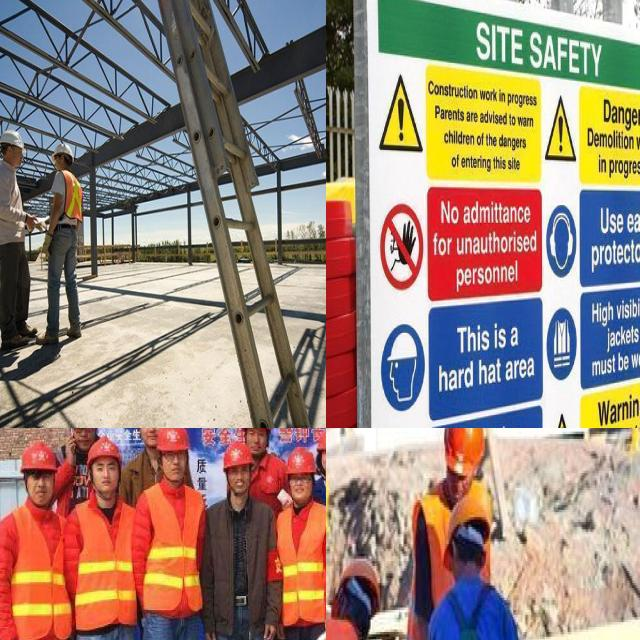face_nomask: (91, 456, 120, 496), (25, 469, 57, 502), (162, 448, 188, 485), (227, 465, 250, 500), (245, 428, 270, 458), (68, 428, 97, 453), (289, 472, 313, 500), (139, 428, 165, 451), (6, 149, 26, 172)
hand_glove: (40, 231, 53, 259)
hand_noglove: (257, 621, 278, 640), (27, 212, 38, 238), (320, 613, 326, 640)
head_helmet: (443, 495, 491, 547), (332, 559, 382, 605), (443, 428, 487, 475), (20, 438, 57, 471), (84, 434, 122, 462), (222, 438, 255, 466), (286, 446, 316, 474), (155, 428, 188, 449), (0, 128, 24, 148), (50, 142, 76, 159), (315, 428, 326, 451)
person: (408, 428, 495, 640), (140, 428, 213, 640), (69, 441, 143, 640), (204, 434, 272, 640), (0, 444, 67, 640), (432, 495, 520, 640), (277, 449, 326, 640), (44, 140, 84, 350), (0, 129, 35, 345), (244, 428, 285, 513), (55, 428, 98, 493), (125, 428, 167, 487), (311, 428, 326, 527)
shoes: (0, 327, 30, 352), (64, 312, 85, 342), (42, 322, 62, 346)
vest: (3, 505, 72, 640), (71, 501, 140, 623), (140, 480, 204, 609), (405, 495, 452, 640), (276, 501, 326, 626), (56, 168, 84, 228)
